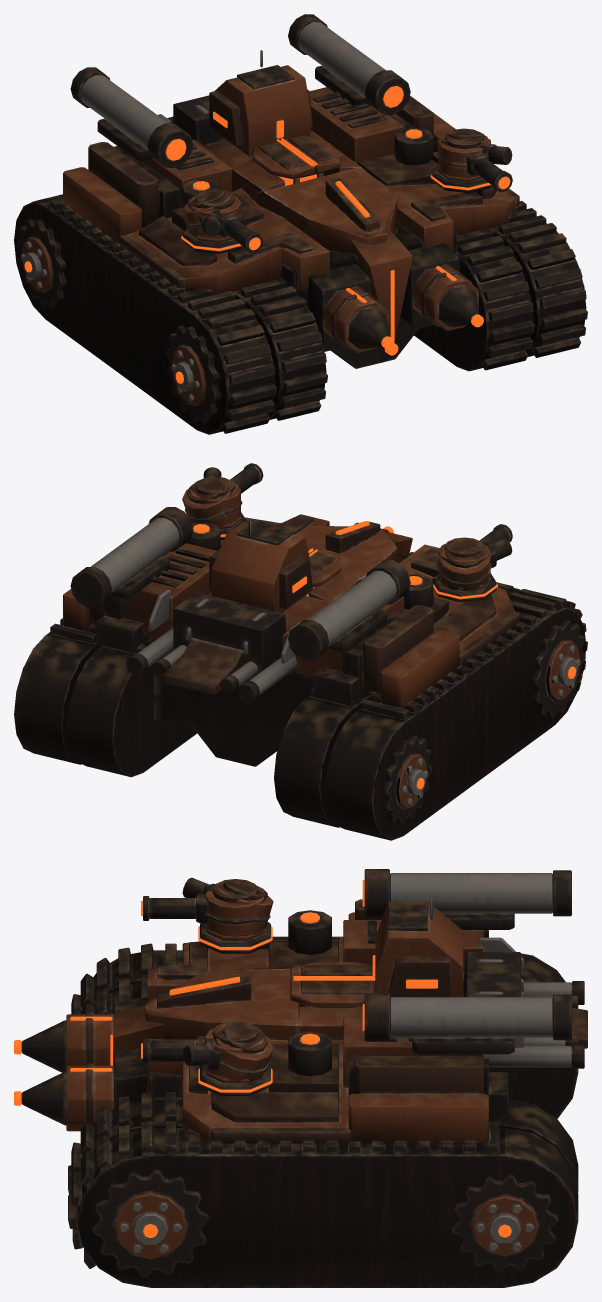
File: bastion-9-v5-remodel.glb
The picture shows the model from 3 angles, top to bottom: view 1: azimuth 30°, elevation 25°; view 2: azimuth 150°, elevation 25°; view 3: azimuth 270°, elevation 25°; orthographic projection. The views are drawn at different scales.
Visible parts, largest first — view 1: bastion_hull, bastion_forward_cannon_left, bastion_forward_cannon_right, bastion_sprocket_left, bastion_idler_left, bastion_gun_right, bastion_gun_left, bastion_core_shutter_a, bastion_battery_left_wreck, bastion_core_shutter_b, bastion_battery_right_wreck, bastion_battery_left (+1 smaller); view 2: bastion_hull, bastion_sprocket_left, bastion_idler_left, bastion_battery_left_wreck, bastion_battery_right_wreck, bastion_gun_right, bastion_gun_left, bastion_core_shutter_a, bastion_battery_left; view 3: bastion_hull, bastion_sprocket_right, bastion_idler_right, bastion_forward_cannon_right, bastion_forward_cannon_left, bastion_gun_left, bastion_battery_right_wreck, bastion_core_shutter_b, bastion_gun_right, bastion_battery_left_wreck, bastion_battery_left, bastion_core_shutter_a (+1 smaller).
Boxes of the visible parts, bbox=[...] form: bastion_hull: bbox=[14, 14, 587, 434]; bastion_forward_cannon_left: bbox=[308, 264, 394, 352]; bastion_forward_cannon_right: bbox=[400, 243, 483, 330]; bastion_sprocket_left: bbox=[166, 325, 220, 423]; bastion_idler_left: bbox=[17, 219, 67, 308]; bastion_gun_right: bbox=[437, 128, 512, 192]; bastion_gun_left: bbox=[188, 189, 263, 253]; bastion_core_shutter_a: bbox=[252, 139, 314, 178]; bastion_battery_left_wreck: bbox=[181, 189, 241, 252]; bastion_core_shutter_b: bbox=[281, 135, 341, 172]; bastion_battery_right_wreck: bbox=[431, 133, 512, 191]; bastion_battery_left: bbox=[181, 228, 241, 253]; bastion_hull: bbox=[14, 507, 587, 840]; bastion_sprocket_left: bbox=[531, 620, 585, 718]; bastion_idler_left: bbox=[381, 735, 431, 825]; bastion_battery_left_wreck: bbox=[433, 538, 512, 601]; bastion_battery_right_wreck: bbox=[182, 467, 246, 539]; bastion_gun_right: bbox=[189, 463, 263, 525]; bastion_gun_left: bbox=[437, 524, 512, 580]; bastion_core_shutter_a: bbox=[309, 549, 341, 587]; bastion_battery_left: bbox=[432, 574, 498, 601]; bastion_hull: bbox=[68, 869, 587, 1287]; bastion_sprocket_right: bbox=[92, 1169, 208, 1277]; bastion_idler_right: bbox=[451, 1173, 558, 1272]; bastion_forward_cannon_right: bbox=[14, 1048, 147, 1131]; bastion_forward_cannon_left: bbox=[14, 997, 147, 1072]; bastion_gun_left: bbox=[141, 879, 265, 936]; bastion_battery_right_wreck: bbox=[182, 1022, 273, 1095]; bastion_core_shutter_b: bbox=[290, 978, 375, 1007]; bastion_gun_right: bbox=[141, 1021, 264, 1077]; bastion_battery_left_wreck: bbox=[182, 877, 273, 953]; bastion_battery_left: bbox=[198, 922, 272, 953]; bastion_core_shutter_a: bbox=[290, 962, 374, 980].
Size of the model in its own units: 8.36 by 5 by 8.99.
2 materials, 1 textured.
